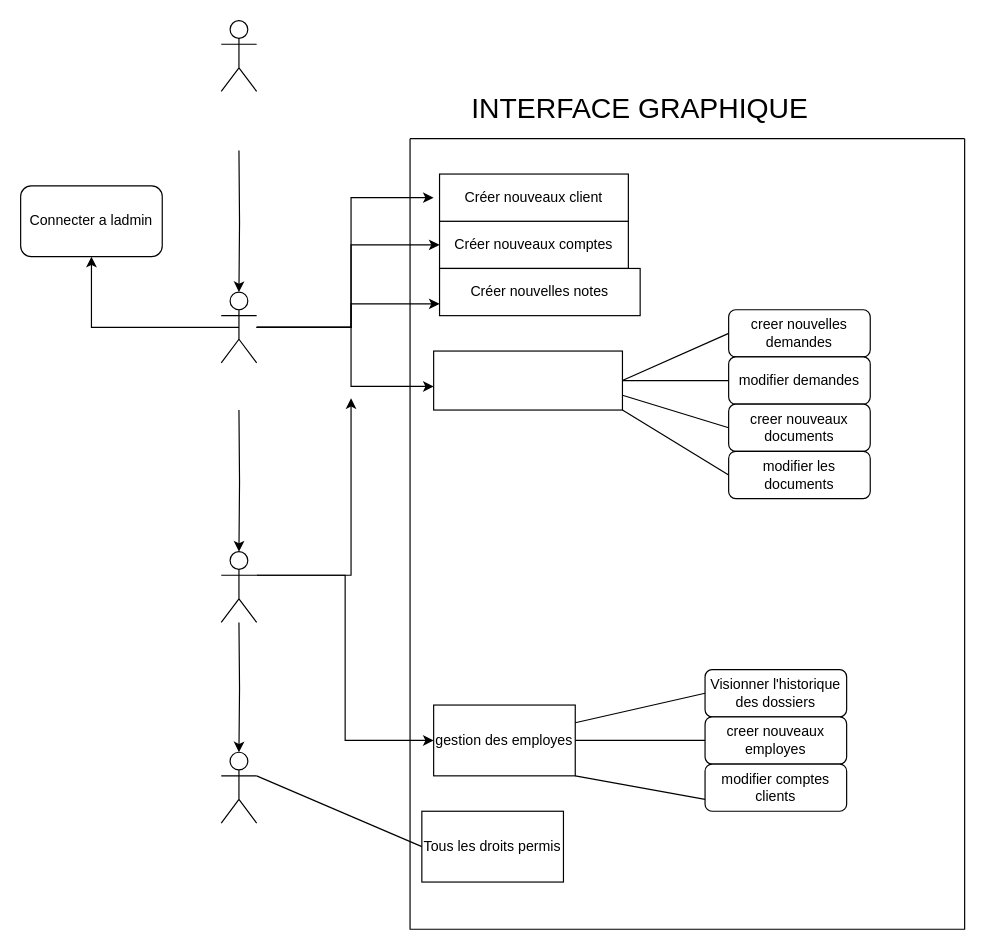
Some shapes in this 985 by 950 pixel diagram are drawn without their labels. Here are the shapes that lost their labels. From the top down, the box of each, then its label:
(220, 19, 257, 91): Clients
(220, 291, 257, 363): Employé
(432, 350, 622, 410): Gestion des comptes
(220, 550, 257, 622): Superviseur
(220, 751, 257, 823): Admin
